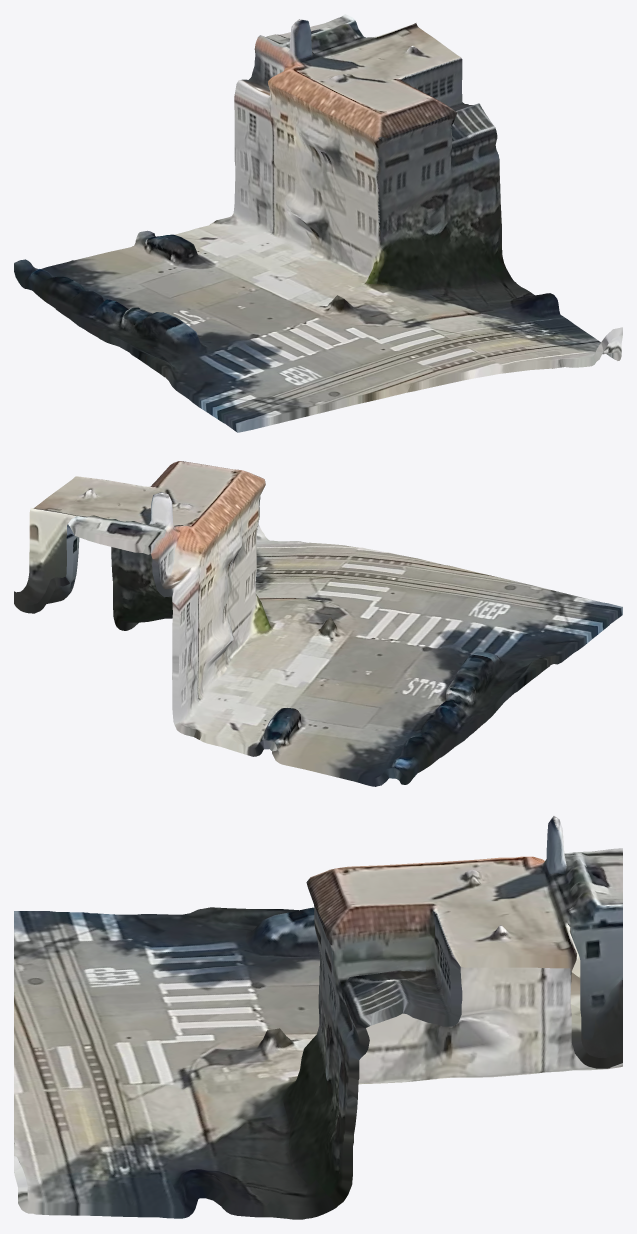
Rendered from z20-167714-405196-h0-yup-uvflip-v3-world.glb.
3 views of the same model, one above another, from view 1: azimuth 30°, elevation 25°; view 2: azimuth 150°, elevation 25°; view 3: azimuth 270°, elevation 25° (orthographic). The views are drawn at different scales.
Bounding box in the file's own units: 30.16 × 17.52 × 30.32.
1 material, 1 textured.
